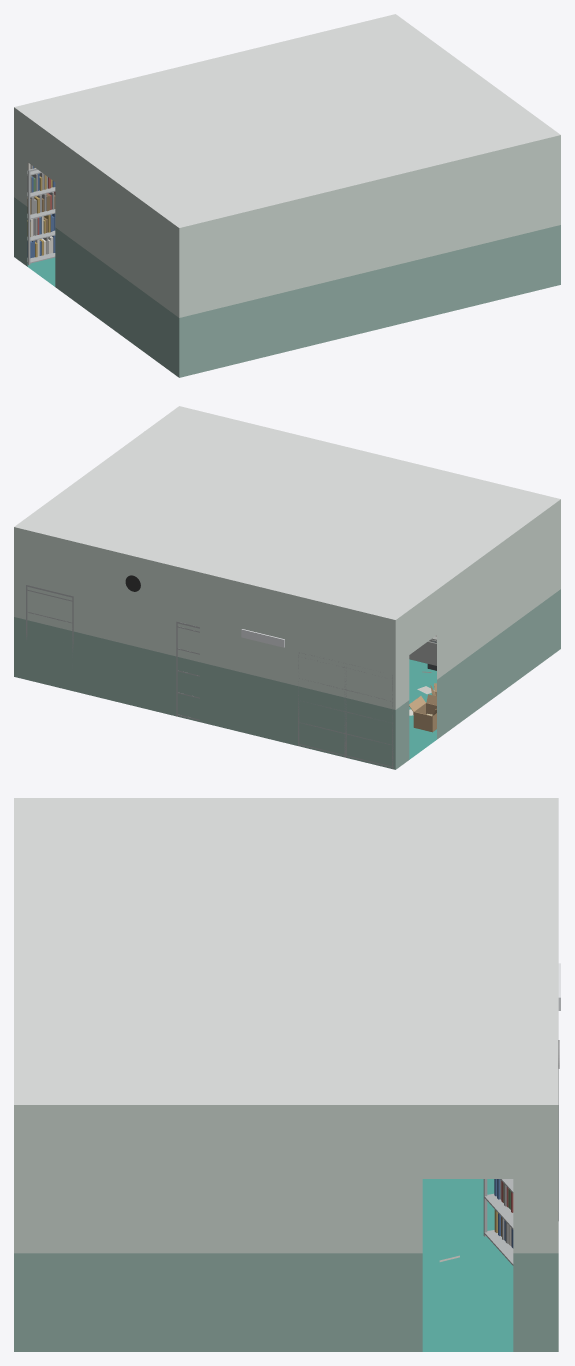
Rendered from oficina_administrativa 1.fbx.
3 views of the same model, one above another, from view 1: azimuth 30°, elevation 25°; view 2: azimuth 150°, elevation 25°; view 3: azimuth 270°, elevation 25° (orthographic). The views are drawn at different scales.
Visible parts, largest first — view 1: Techo, Pared_Sur_Alto, Pared_Sur_Bajo, Pared_Oeste_A_Alto, Pared_Oeste_A_Bajo, Pared_Oeste_Dintel, Pared_Oeste_B_Alto, Estante_Metal_01, Pared_Oeste_B_Bajo, Libros_Estante_Metal_01_2, Piso, Libros_Estante_Metal_01_1 (+1 smaller); view 2: Techo, Pared_Norte_Bajo, Pared_Norte_Alto, Pared_Oeste_A_Alto, Pared_Oeste_A_Bajo, Piso, Pared_Oeste_B_Alto, Pared_Oeste_Dintel, Pared_Oeste_B_Bajo, Caja_Carton_Abierta, Escritorio_Frente.001, Estante_Metal_03 (+1 smaller); view 3: Techo, Pared_Este_A_Alto, Pared_Este_A_Bajo, Piso, Pared_Este_B_Alto, Pared_Este_Dintel, Pared_Este_B_Bajo, Estante_Metal_02.001.
Part boxes in pixels (bbox=[...]): Techo: bbox=[14, 14, 560, 227]; Pared_Sur_Alto: bbox=[179, 135, 560, 317]; Pared_Sur_Bajo: bbox=[179, 225, 560, 377]; Pared_Oeste_A_Alto: bbox=[55, 137, 179, 317]; Pared_Oeste_A_Bajo: bbox=[55, 227, 179, 377]; Pared_Oeste_Dintel: bbox=[27, 117, 55, 181]; Pared_Oeste_B_Alto: bbox=[14, 107, 27, 206]; Estante_Metal_01: bbox=[27, 168, 55, 265]; Pared_Oeste_B_Bajo: bbox=[14, 197, 27, 266]; Libros_Estante_Metal_01_2: bbox=[27, 191, 55, 214]; Piso: bbox=[27, 257, 55, 286]; Libros_Estante_Metal_01_1: bbox=[27, 213, 55, 236]; Techo: bbox=[14, 406, 560, 619]; Pared_Norte_Bajo: bbox=[14, 527, 395, 709]; Pared_Norte_Alto: bbox=[14, 617, 395, 769]; Pared_Oeste_A_Alto: bbox=[437, 499, 560, 679]; Pared_Oeste_A_Bajo: bbox=[437, 589, 560, 739]; Piso: bbox=[409, 659, 436, 759]; Pared_Oeste_B_Alto: bbox=[395, 610, 409, 709]; Pared_Oeste_Dintel: bbox=[409, 590, 436, 654]; Pared_Oeste_B_Bajo: bbox=[395, 700, 409, 769]; Caja_Carton_Abierta: bbox=[409, 694, 436, 732]; Escritorio_Frente.001: bbox=[409, 641, 436, 665]; Estante_Metal_03: bbox=[26, 585, 73, 665]; Techo: bbox=[14, 798, 558, 1104]; Pared_Este_A_Alto: bbox=[14, 1105, 422, 1253]; Pared_Este_A_Bajo: bbox=[14, 1253, 422, 1351]; Piso: bbox=[422, 1179, 513, 1351]; Pared_Este_B_Alto: bbox=[513, 1105, 558, 1253]; Pared_Este_Dintel: bbox=[422, 1105, 513, 1178]; Pared_Este_B_Bajo: bbox=[513, 1253, 558, 1351]; Estante_Metal_02.001: bbox=[483, 1179, 513, 1265].
Size of the model in its own units: 8 by 3.01 by 6.02.
